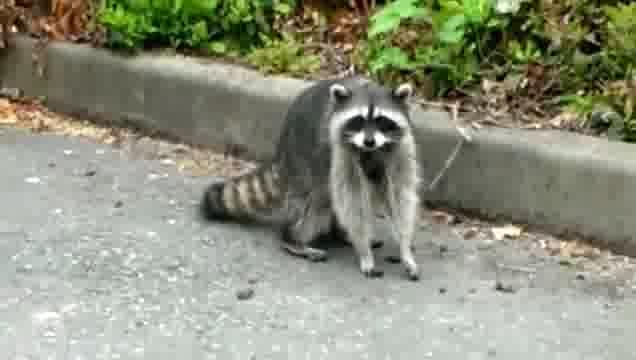raccoon: (200, 75, 425, 283)
